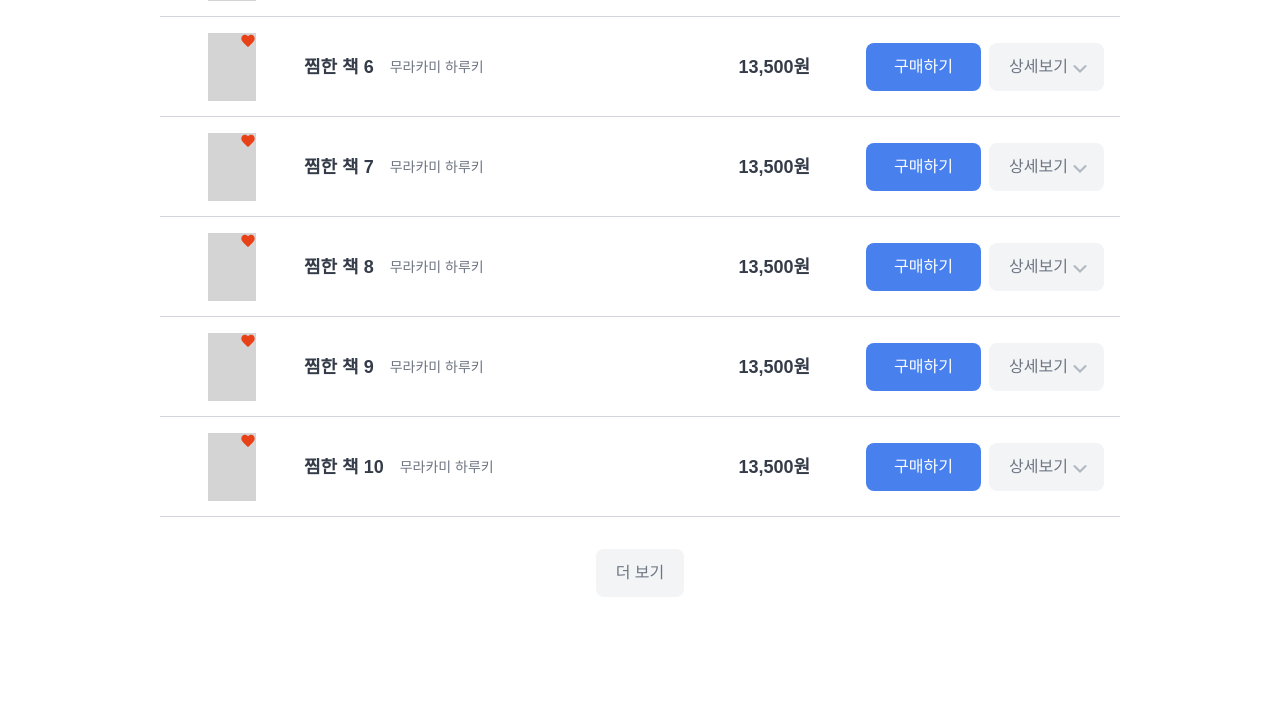
Test: 찜하기 › 찜한 책은 페이지당 10권씩 보여주고 더 보기로 이어서 보여준다
(page scrolled)
Click the button "더 보기".
click(640, 573)  # box [596,549,684,597]
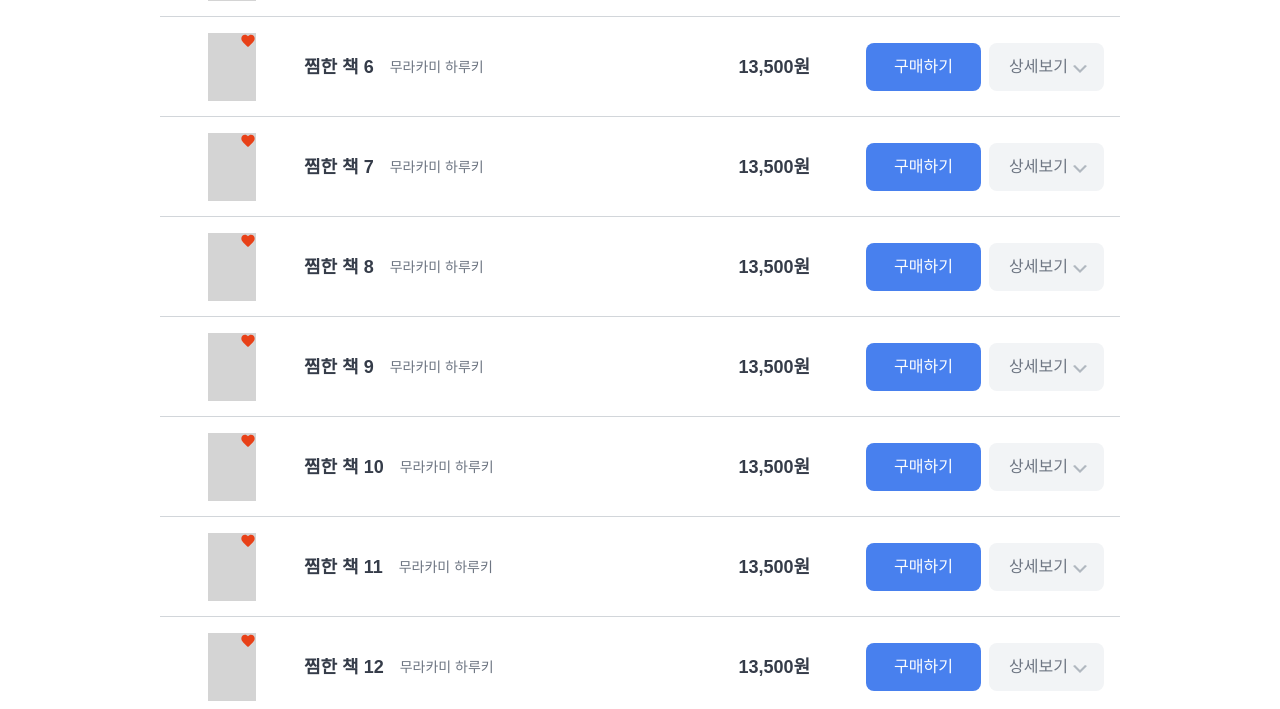
Result: the button "더 보기" is gone
